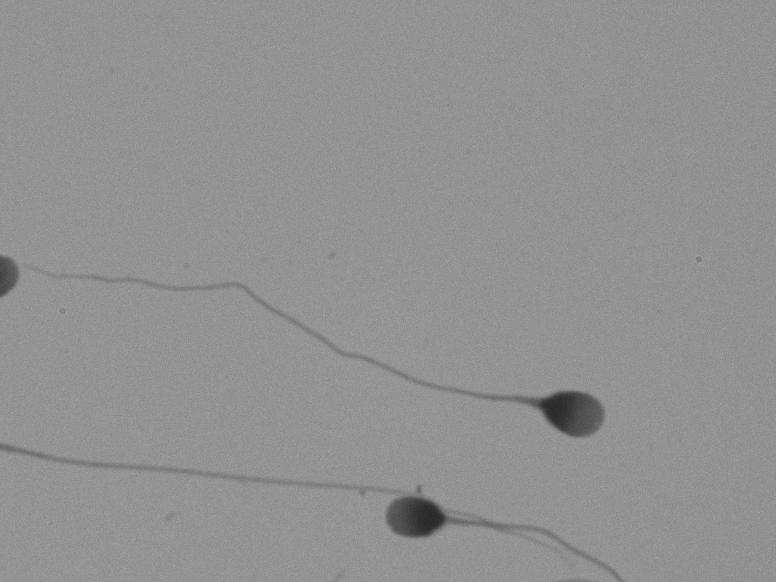Normal: (58, 245, 677, 443), (365, 468, 656, 572)
